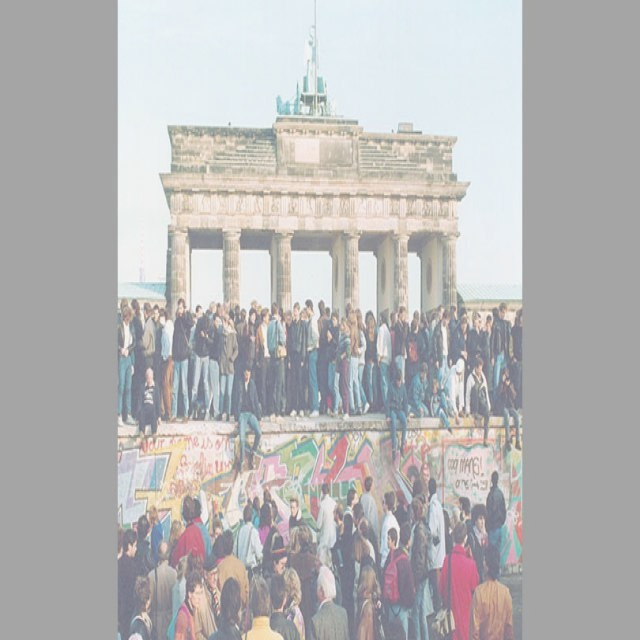pessoa: (438, 519, 481, 639), (468, 540, 516, 638), (381, 516, 418, 638), (232, 503, 265, 618), (423, 476, 446, 626), (146, 538, 180, 638), (306, 564, 351, 639), (168, 296, 193, 425), (409, 496, 431, 638), (235, 360, 262, 474), (239, 574, 286, 639), (216, 528, 250, 612), (192, 553, 225, 639), (170, 492, 207, 568), (216, 312, 240, 426), (308, 542, 344, 618), (266, 302, 288, 426), (116, 305, 138, 428), (286, 300, 308, 420), (464, 355, 492, 449), (117, 528, 140, 638), (346, 562, 379, 638), (385, 368, 411, 462), (208, 574, 243, 639), (324, 307, 344, 420), (173, 570, 206, 638), (126, 567, 157, 639), (268, 574, 302, 639), (332, 512, 355, 608), (303, 298, 321, 420), (497, 365, 522, 452), (186, 303, 204, 421), (464, 501, 489, 585), (358, 474, 380, 566), (255, 306, 272, 424), (137, 366, 162, 446), (188, 303, 205, 420), (378, 488, 401, 574), (484, 467, 508, 549), (282, 564, 308, 639), (354, 308, 372, 416), (374, 310, 392, 418), (334, 314, 352, 421), (160, 304, 176, 424), (431, 309, 453, 396), (206, 312, 223, 422), (362, 313, 380, 414), (346, 310, 363, 416), (350, 500, 380, 558), (429, 360, 452, 432), (315, 480, 338, 550), (509, 306, 524, 413), (352, 530, 378, 590), (446, 356, 468, 426), (150, 303, 164, 404), (134, 514, 156, 576), (148, 502, 166, 576), (408, 360, 430, 420), (192, 497, 212, 563), (392, 304, 408, 386), (138, 300, 156, 369), (171, 552, 189, 620), (356, 514, 378, 564), (448, 314, 469, 366), (265, 526, 287, 574), (497, 298, 512, 366), (292, 524, 314, 568), (468, 312, 491, 354), (380, 525, 399, 574), (404, 317, 426, 358), (408, 458, 430, 498), (167, 518, 185, 566), (256, 501, 274, 546), (342, 487, 358, 535), (248, 306, 258, 382), (388, 310, 399, 369), (331, 499, 346, 542), (392, 488, 408, 528), (288, 496, 306, 530), (208, 516, 223, 556), (284, 307, 296, 355), (316, 298, 331, 336), (454, 494, 472, 521), (428, 303, 445, 331), (188, 543, 204, 571), (250, 494, 262, 531), (204, 302, 227, 318), (238, 306, 248, 337), (130, 298, 142, 320), (116, 522, 124, 554), (419, 314, 430, 337), (448, 304, 457, 330), (228, 303, 238, 323), (413, 307, 421, 330), (271, 500, 278, 526), (186, 308, 196, 326), (278, 307, 287, 327), (250, 299, 260, 313), (300, 306, 308, 322), (344, 302, 352, 318), (262, 487, 271, 501), (118, 296, 128, 308), (422, 496, 427, 516), (514, 308, 520, 324), (491, 306, 498, 319), (128, 632, 141, 638), (458, 306, 466, 314), (160, 309, 164, 323), (150, 308, 155, 318), (429, 310, 436, 317), (246, 497, 252, 504), (174, 308, 178, 318), (326, 306, 330, 316), (376, 320, 378, 331)
